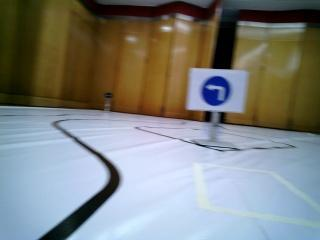left: (190, 70, 244, 110)
